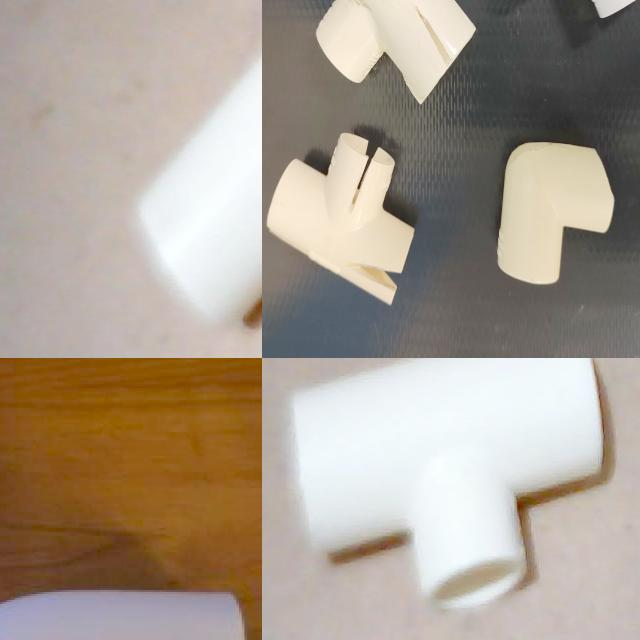Defective: (493, 167, 532, 236), (302, 151, 350, 197), (527, 127, 555, 191), (405, 43, 437, 91)
L Joint: (262, 94, 365, 265)
T Joint: (288, 358, 617, 614), (382, 3, 554, 241), (130, 55, 262, 326)
